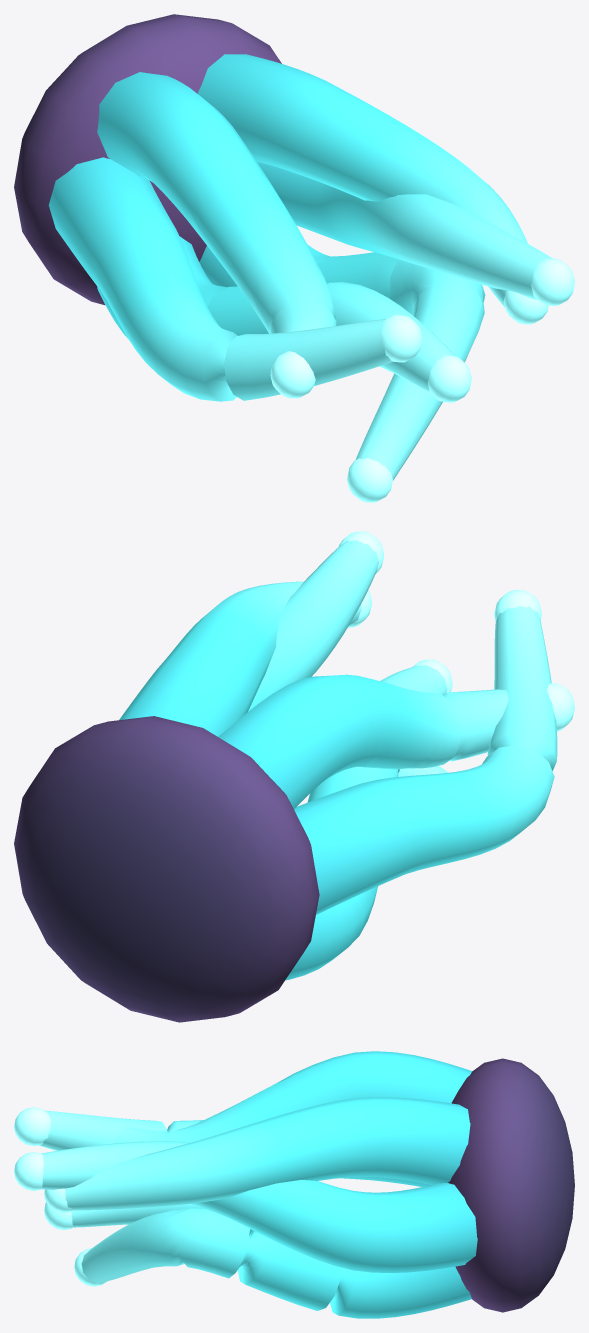
File: SpalakhSmoothAnemoneCyan_v099.glb
The picture shows the model from 3 angles, top to bottom: view 1: azimuth 30°, elevation 25°; view 2: azimuth 150°, elevation 25°; view 3: azimuth 270°, elevation 25°; orthographic projection. The views are drawn at different scales.
Visible parts, largest first — view 1: game_asset; view 2: game_asset; view 3: game_asset.
Boxes of the visible parts, x1,y1,x2,y2 form: game_asset: (14, 14, 574, 502); game_asset: (14, 531, 574, 1022); game_asset: (14, 1051, 574, 1318).
Size of the model in its own units: 0.5247 by 0.4212 by 0.933.
